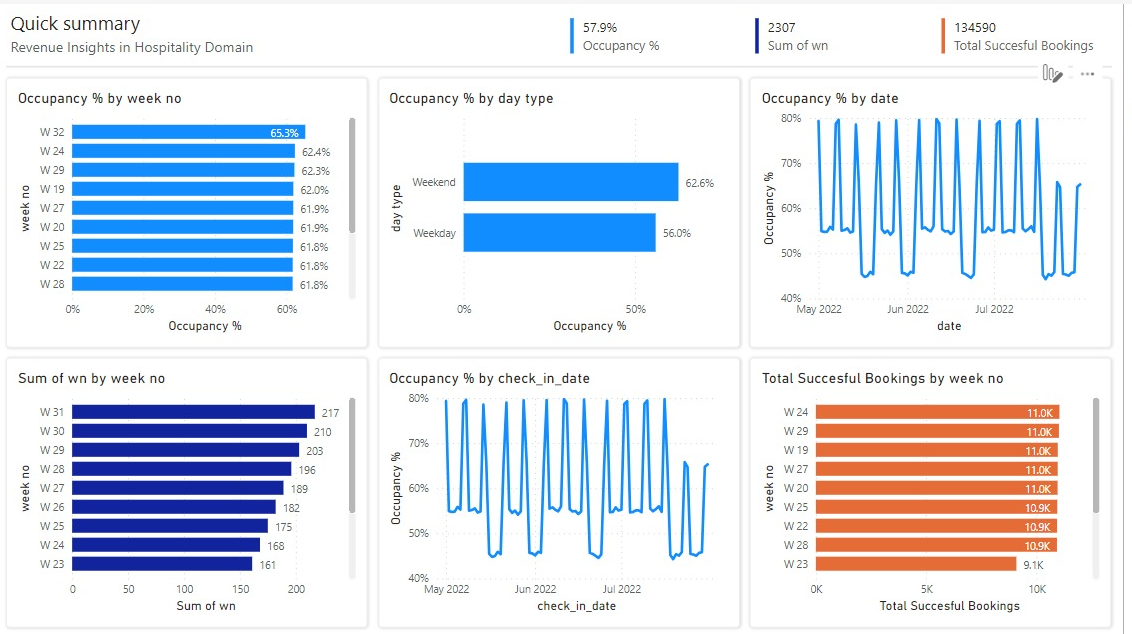

Layout of this report page (visuals, bound fields, positions):
{"tool":"powerbi","page":{"name":"Main","canvas":[1664,936],"ordinal":0},"visuals":[{"type":"tableEx","fields":{"Values":["key_measures.Revenue WoW change %"]},"box":[89.9,161.5,105.8,60.1],"z":0,"group":"g2"},{"type":"group","id":"g1","title":"OAR group","box":[47.7,265.1,503.2,124.8],"z":0,"group":"g3"},{"type":"tableEx","fields":{"Values":["key_measures.Realisation WoW change %"]},"box":[414.5,329.3,116.5,59.5],"z":0,"group":"g1"},{"type":"shape","box":[44.8,379.5,515.1,72.6],"z":0,"group":"g4"},{"type":"tableEx","fields":{"Values":["dim_hotals.property_id","dim_hotals.property_name","dim_hotals.city","key_measures.Revenue","key_measures.Total Bookings","key_measures.RevPAR","key_measures.Occupancy %","key_measures.ADR","key_measures.DBRN","key_measures.DSRN","key_measures.DURN","key_measures.Realisation %"]},"box":[623.8,541.2,1015,365],"z":0},{"type":"slicer","fields":{"Values":["dim_hotals.city"]},"box":[15.2,12.4,154.4,62.2],"z":1000},{"type":"group","id":"g2","title":"RRD group","box":[46.2,102.5,504.1,119.2],"z":1000,"group":"g3"},{"type":"card","title":"Revenue","fields":{"Values":["key_measures.Revenue"]},"box":[46.2,102.5,168,88],"z":1000,"group":"g2"},{"type":"card","title":"Realisation %","fields":{"Values":["key_measures.Realisation %"]},"box":[382.7,265.1,168.2,93.4],"z":1000,"group":"g1"},{"type":"tableEx","fields":{"Values":["dim_date.day_type","key_measures.RevPAR","key_measures.Occupancy %","key_measures.ADR","key_measures.Realisation %"]},"box":[63.2,441.1,500,141.1],"z":1000,"group":"g4"},{"type":"slicer","fields":{"Values":["dim_rooms.room_class"]},"box":[178,13.7,210.3,62.3],"z":2000},{"type":"tableEx","fields":{"Values":["key_measures.Revpar WoW change %"]},"box":[259.9,160,105.5,58.9],"z":2000,"group":"g2"},{"type":"tableEx","fields":{"Values":["key_measures.ADR WoW change %"]},"box":[254,328.3,105.5,61.6],"z":2000,"group":"g1"},{"type":"slicer","fields":{"Values":["dim_date.mmm yy"]},"box":[597.5,14.3,287.6,50.9],"z":3000},{"type":"tableEx","fields":{"Values":["key_measures.DSRN WoW change %"]},"box":[421.5,158.7,105.5,57.5],"z":3000,"group":"g2"},{"type":"card","title":"ADR","fields":{"Values":["key_measures.ADR"]},"box":[214.5,265.1,168.2,93.4],"z":3000,"group":"g1"},{"type":"slicer","fields":{"Values":["dim_date.week no"]},"box":[899.4,14.3,702.4,50.9],"z":4000},{"type":"card","title":"RevPre","fields":{"Values":["key_measures.RevPAR"]},"box":[214.2,103.6,168,86.9],"z":4000,"group":"g2"},{"type":"tableEx","fields":{"Values":["key_measures.Occupancy WoW change %"]},"box":[82.7,328.3,111,61.6],"z":4000,"group":"g1"},{"type":"card","title":"DSRN","fields":{"Values":["key_measures.DSRN"]},"box":[382.3,103.6,168,86.9],"z":5000,"group":"g2"},{"type":"donutChart","fields":{"Y":["key_measures.Revenue"],"Category":["dim_hotals.category"]},"box":[623.3,228.8,393.2,243.8],"z":5000},{"type":"card","title":"Occupancy","fields":{"Values":["key_measures.Occupancy %"]},"box":[47.7,265.1,168.2,93.4],"z":5000,"group":"g1"},{"type":"lineChart","title":"Trends By Key Matrix","fields":{"Category":["dim_date.mmm yy.Variation.Date Hierarchy.Month","dim_date.week no"],"Y":["key_measures.RevPAR","key_measures.ADR"],"Y2":["key_measures.Occupancy %"]},"box":[1037.5,228.8,601.2,238.8],"z":6000},{"type":"group","id":"g3","title":"statement","box":[46.2,102.5,505,287.5],"z":7000,"group":"g5"},{"type":"lineStackedColumnComboChart","fields":{"Category":["fact_booking.booking_platform"],"Y":["key_measures.Realisation %"],"Y2":["key_measures.ADR"]},"box":[26.2,636.2,557.5,270],"z":8000},{"type":"group","id":"g4","title":"Group 1","box":[44.8,379.5,518.4,202.7],"z":9000,"group":"g5"},{"type":"group","id":"g5","title":"Group 2","box":[44.8,102.5,518.4,479.8],"z":9001}]}

Visuals, with their boxes in screenshot pixels (x1, y1, x2, y2), scaled from the page's 1664x936 canvas onto the 1132x634 screenshot:
tableEx - key_measures.Revenue WoW change %: 61/109/133/150
"OAR group" group: 32/180/375/264
tableEx - key_measures.Realisation WoW change %: 282/223/361/263
shape: 30/257/381/306
tableEx - dim_hotals.property_id x dim_hotals.property_name: 424/367/1115/614
slicer - dim_hotals.city: 10/8/115/51
"RRD group" group: 31/69/374/150
"Revenue" card: 31/69/146/129
"Realisation %" card: 260/180/375/243
tableEx - dim_date.day_type x key_measures.RevPAR: 43/299/383/394
slicer - dim_rooms.room_class: 121/9/264/51
tableEx - key_measures.Revpar WoW change %: 177/108/249/148
tableEx - key_measures.ADR WoW change %: 173/222/245/264
slicer - dim_date.mmm yy: 406/10/602/44
tableEx - key_measures.DSRN WoW change %: 287/107/359/146
"ADR" card: 146/180/260/243
slicer - dim_date.week no: 612/10/1090/44
"RevPre" card: 146/70/260/129
tableEx - key_measures.Occupancy WoW change %: 56/222/132/264
"DSRN" card: 260/70/374/129
donutChart - key_measures.Revenue x dim_hotals.category: 424/155/692/320
"Occupancy" card: 32/180/147/243
"Trends By Key Matrix" lineChart: 706/155/1115/317
"statement" group: 31/69/375/264
lineStackedColumnComboChart - fact_booking.booking_platform x key_measures.Realisation %: 18/431/397/614
"Group 1" group: 30/257/383/394
"Group 2" group: 30/69/383/394
